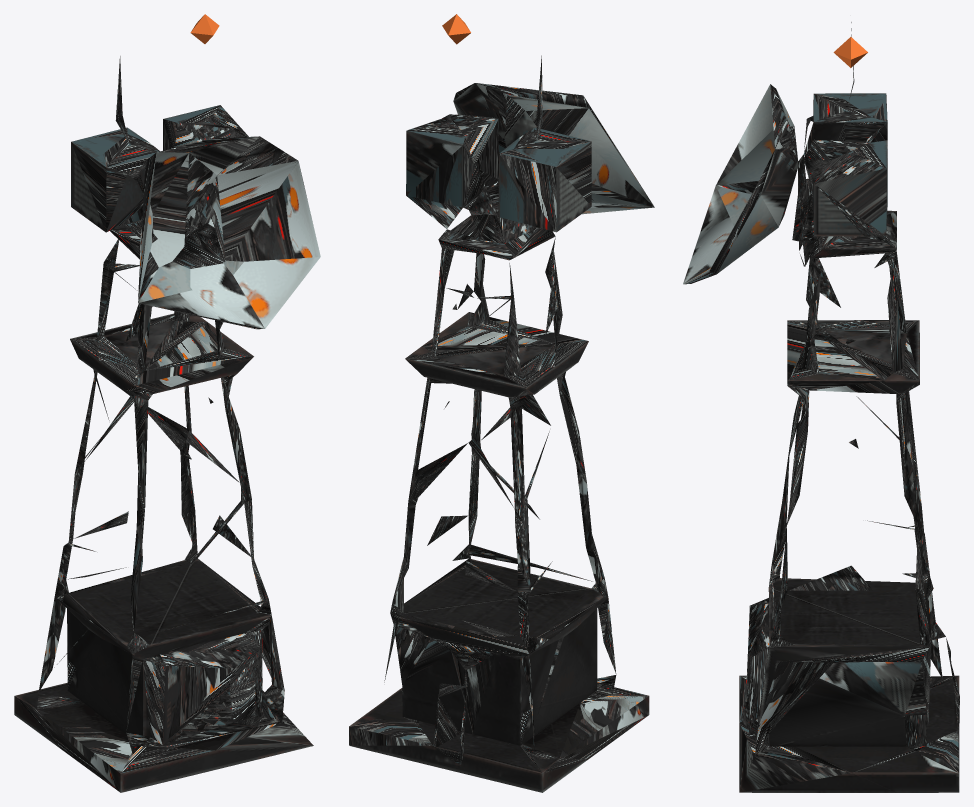
Rendered from obj_relay_v1_lod1.glb.
3 views of the same model, side by side, from view 1: azimuth 30°, elevation 25°; view 2: azimuth 150°, elevation 25°; view 3: azimuth 270°, elevation 25° (orthographic). The views are drawn at different scales.
Parts seen in each view (by area): view 1: object 1; view 2: object 1; view 3: object 1, steady_beacon.
Boxes of the visible parts, bbox=[...] form: object 1: bbox=[14, 56, 320, 792]; object 1: bbox=[349, 55, 654, 792]; object 1: bbox=[683, 22, 959, 792]; steady_beacon: bbox=[833, 37, 867, 67].
Size of the model in its own units: 0.5532 by 1.93 by 0.6641.
Materials: 2 (1 with a texture image).
